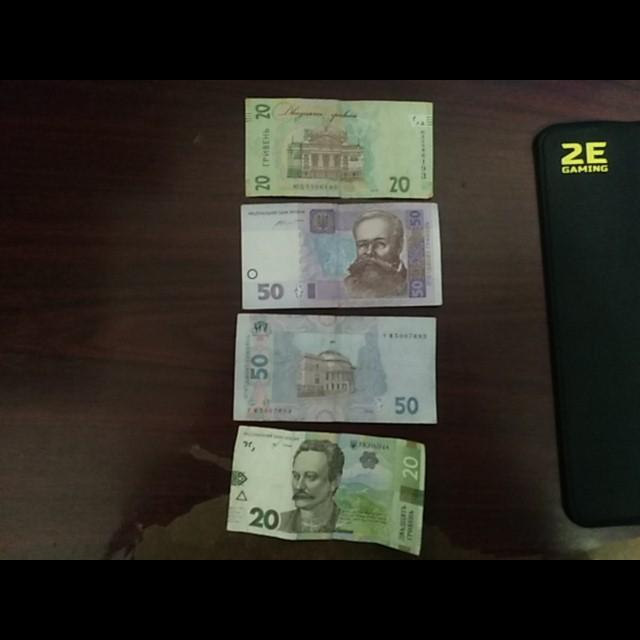20uah: (227, 426, 424, 553), (243, 98, 434, 196)
50uah: (233, 315, 438, 421), (242, 202, 440, 310)
